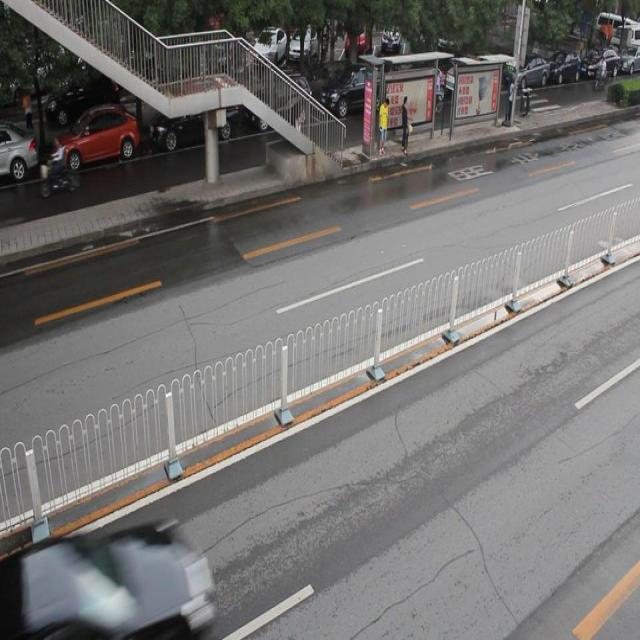car: (1, 514, 217, 640), (150, 94, 242, 150), (55, 108, 140, 168), (248, 74, 314, 133), (319, 66, 389, 120), (1, 125, 40, 182)
